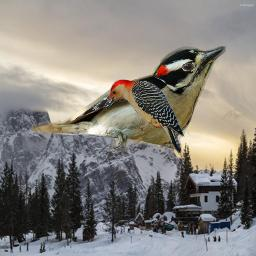Woodpecker: (31, 42, 226, 153), (103, 79, 186, 157)
